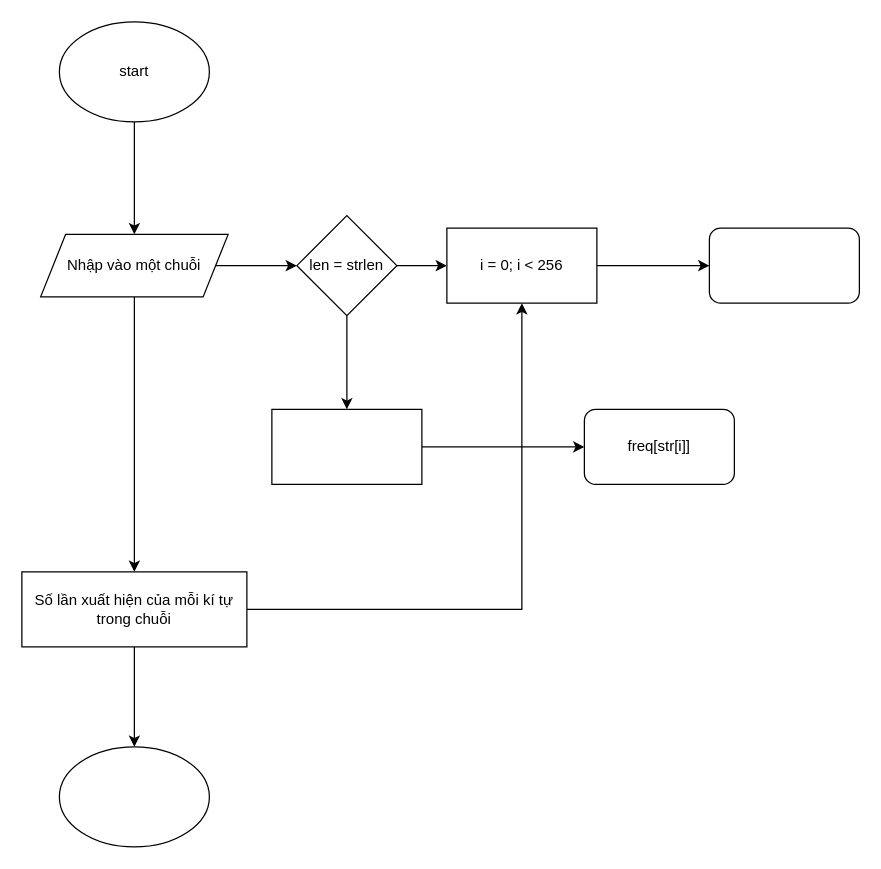
This 881x869 diagram has some shape labels left out. The box of each missing label's shape, as (x1, y1, x2, y2) in pixels:
End: (58, 746, 209, 847)
freq[i] = 0: (708, 227, 859, 303)
i = 0; i < len: (271, 408, 422, 484)
